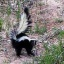skunk: (12, 9, 37, 55)
